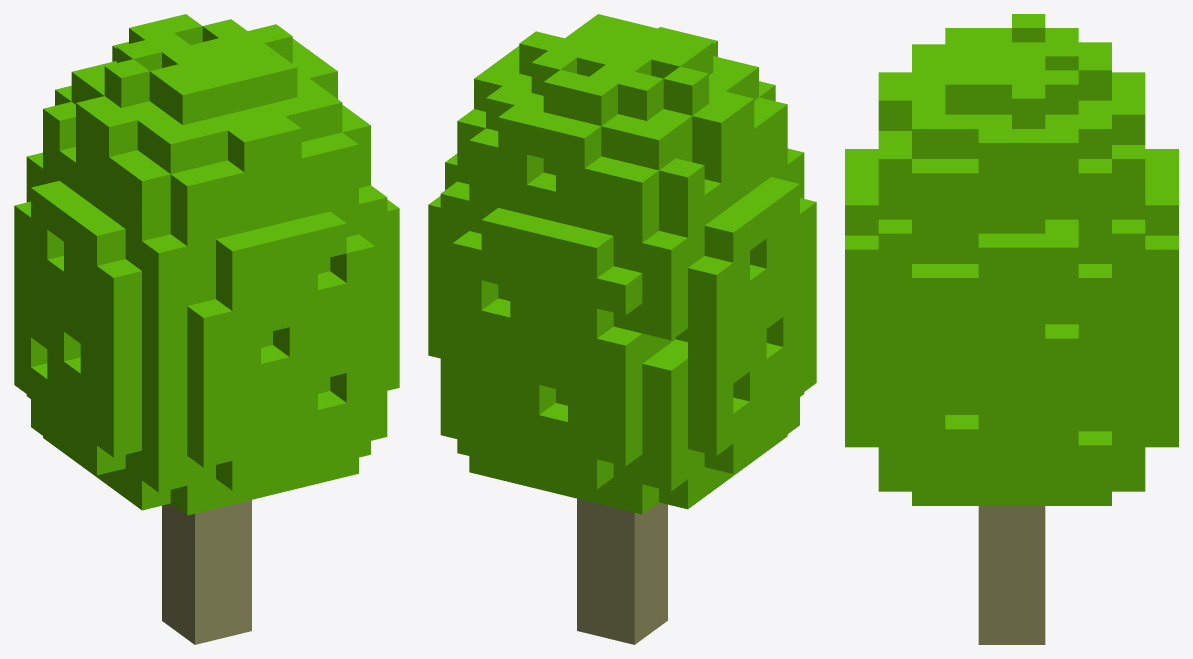
The model's file is obj_tree2.obj.
3 renders of one model, left to right at view 1: azimuth 30°, elevation 25°; view 2: azimuth 150°, elevation 25°; view 3: azimuth 270°, elevation 25°, orthographic.
Bounding box in the file's own units: 1 × 1.9 × 1.
1 material, 1 textured.
